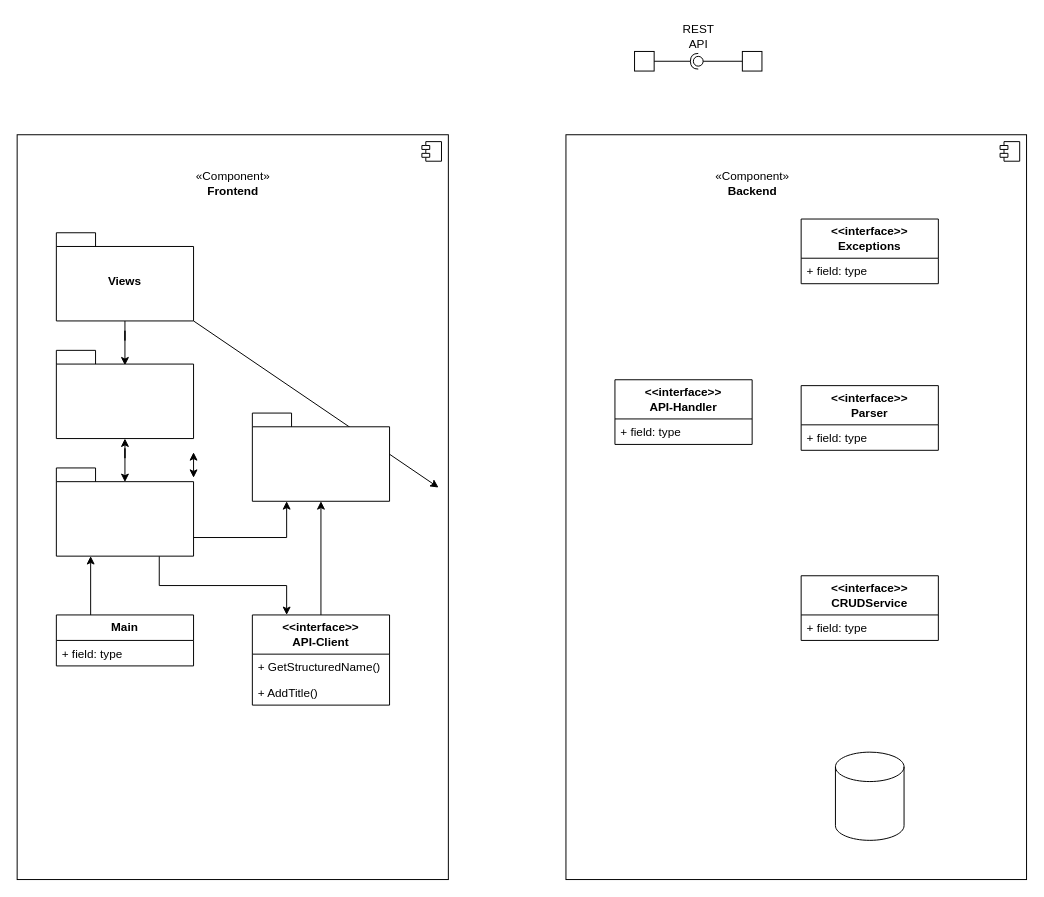
Image size: 1044x897. Some labels were removed from this diagram. Here are the shapes that lost their labels. From the top down, the centre of each, then its label:
At (124,394): "ViewModels".
At (320,456): "DTOs".
At (124,511): "Models".
At (869,795): "In Memory Map".
